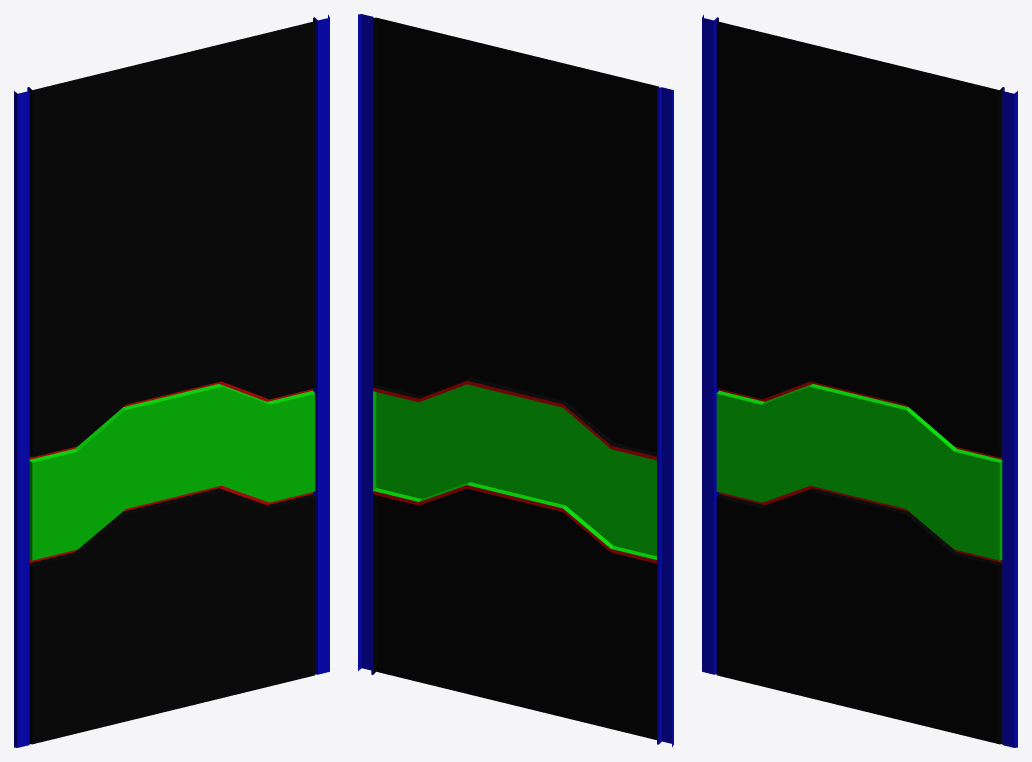
File: Crew_wall_2x4.fbx
The picture shows the model from 3 angles, left to right: view 1: azimuth 30°, elevation 25°; view 2: azimuth 150°, elevation 25°; view 3: azimuth 330°, elevation 25°; orthographic projection.
Parts seen in each view (by area): view 1: Wall_2x4; view 2: Wall_2x4; view 3: Wall_2x4.
Boxes of the visible parts, bbox=[...] form: Wall_2x4: bbox=[14, 14, 329, 747]; Wall_2x4: bbox=[358, 14, 673, 747]; Wall_2x4: bbox=[702, 14, 1017, 747].
Bounding box in the file's own units: 200 × 400 × 3.08.
